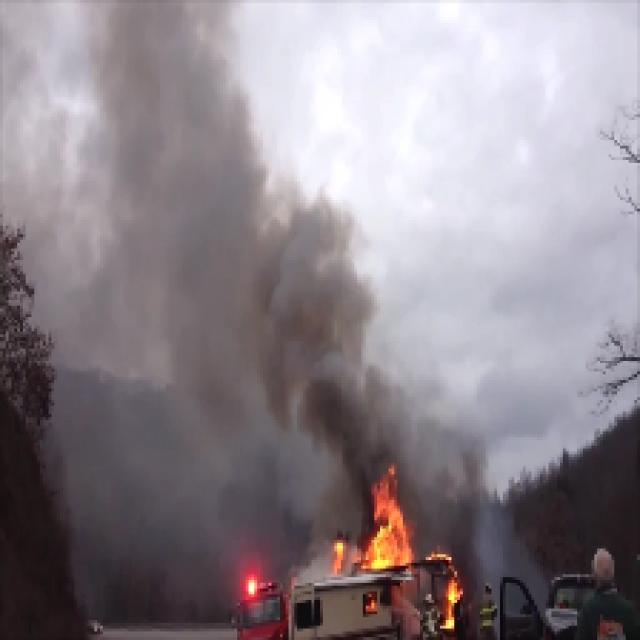smoke: (34, 3, 240, 387), (256, 207, 371, 446)
